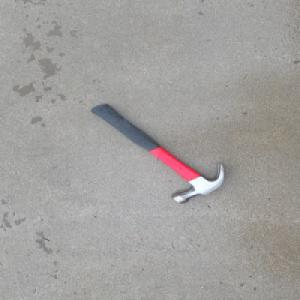Hammer: (89, 101, 228, 204)
